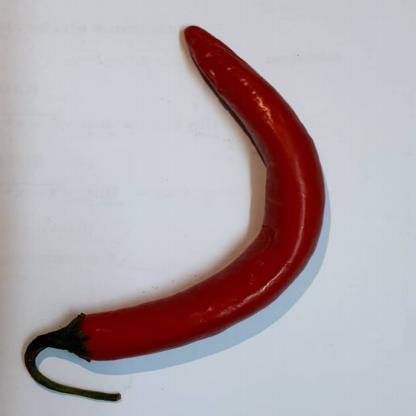chili: (20, 25, 325, 402)
